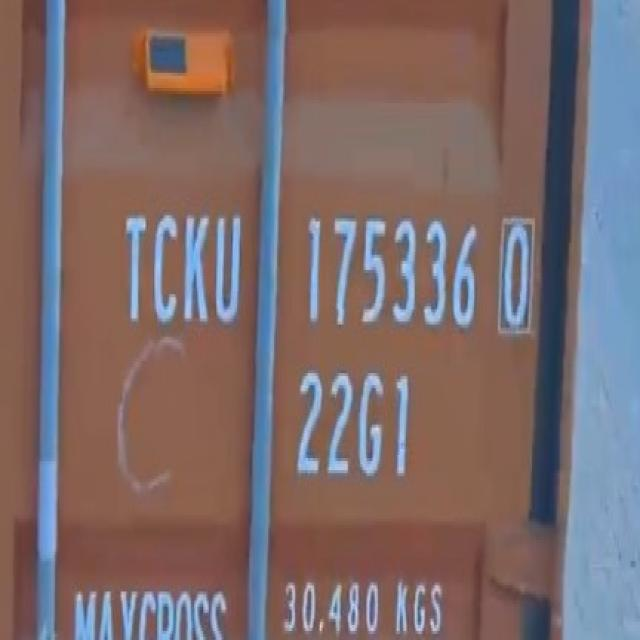dv: (493, 209, 538, 341)
owner: (120, 205, 250, 333)
serial: (300, 204, 481, 340)
size: (292, 354, 414, 493)
